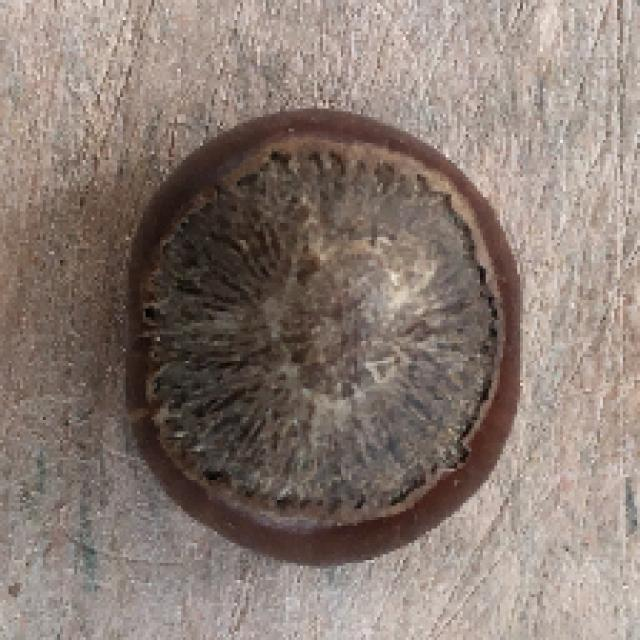DamagedHazelnut: (120, 109, 528, 569)
